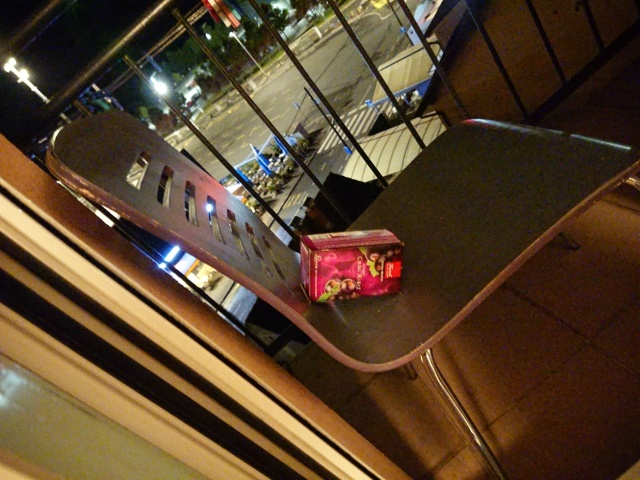Franck Black Currant Tea 60g: (297, 225, 407, 307)
